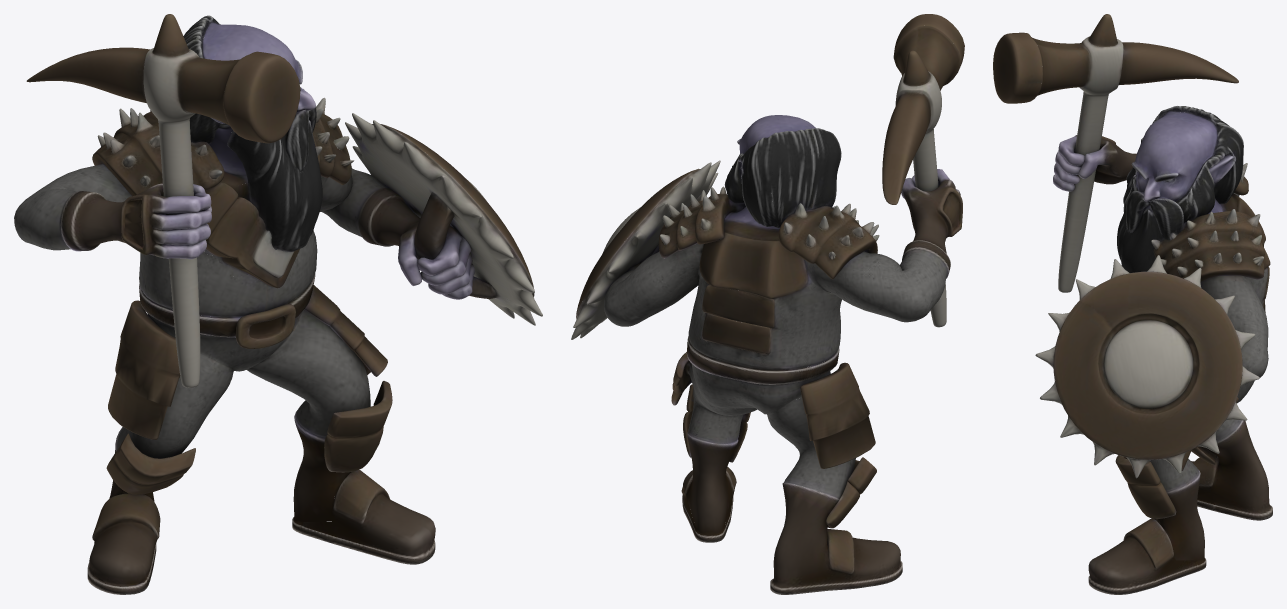
Rendered from Duergar.glb.
3 views of the same model, side by side, from view 1: azimuth 30°, elevation 25°; view 2: azimuth 150°, elevation 25°; view 3: azimuth 270°, elevation 25° (orthographic). The views are drawn at different scales.
Parts seen in each view (by area): view 1: Cylinder.005; view 2: Cylinder.005; view 3: Cylinder.005.
Boxes of the visible parts, <box> form: Cylinder.005: <box>14,14,542,594</box>; Cylinder.005: <box>571,14,964,594</box>; Cylinder.005: <box>993,14,1272,594</box>.
Bounding box in the file's own units: 0.5753 × 0.7329 × 0.39.
3 materials, 3 textured.
